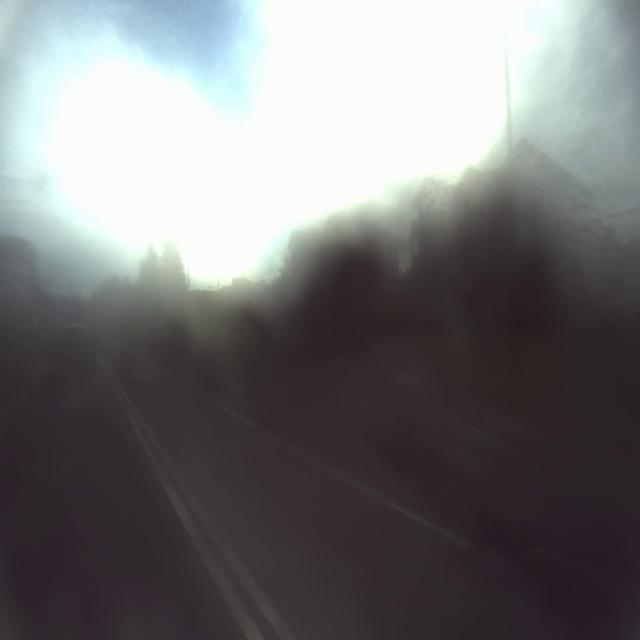car: (48, 310, 92, 383)
